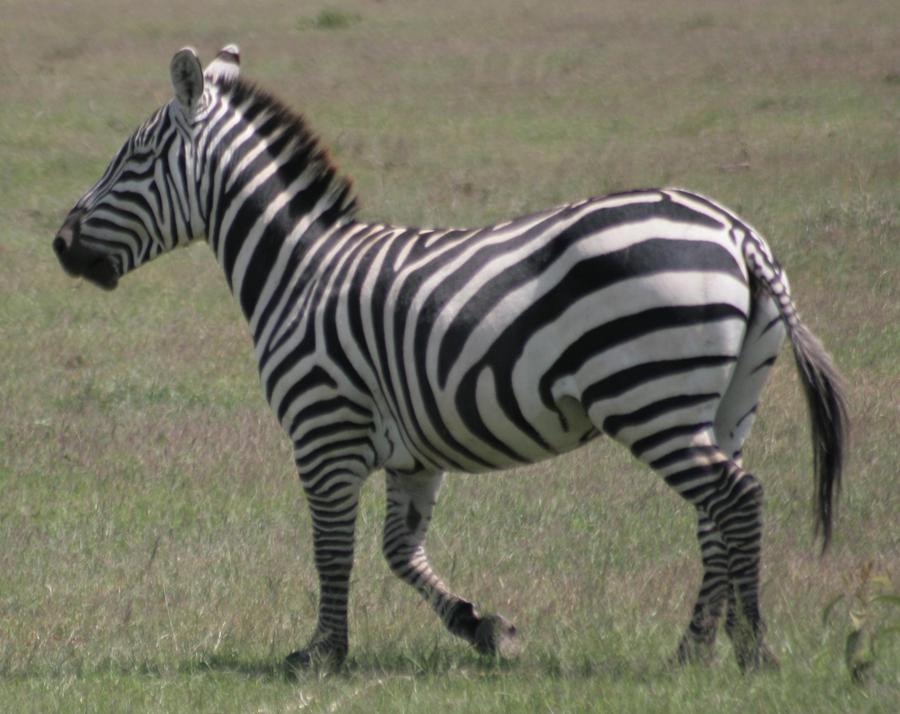zebra_plains: (239, 203, 741, 473)
